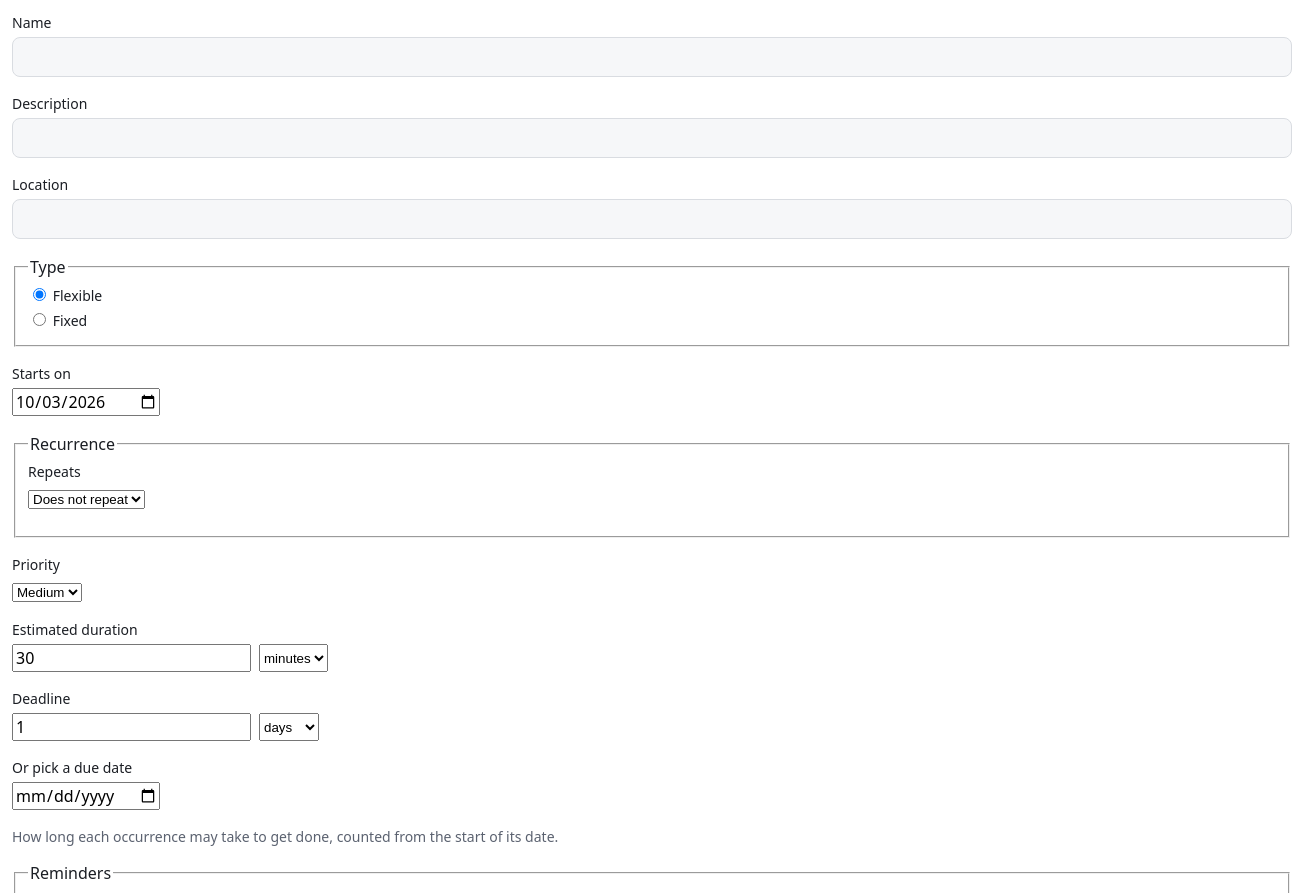
Test: TaskForm › create mode › only offers the due-date picker on a one-time task
The image size is (1304, 893).
expect the date field labelled "Or pick a due date" is shown: met, box [12,782,160,810]
Select "Daily" in the dropdown labelled "Repeats" at [86, 500], box [28,490,145,509]
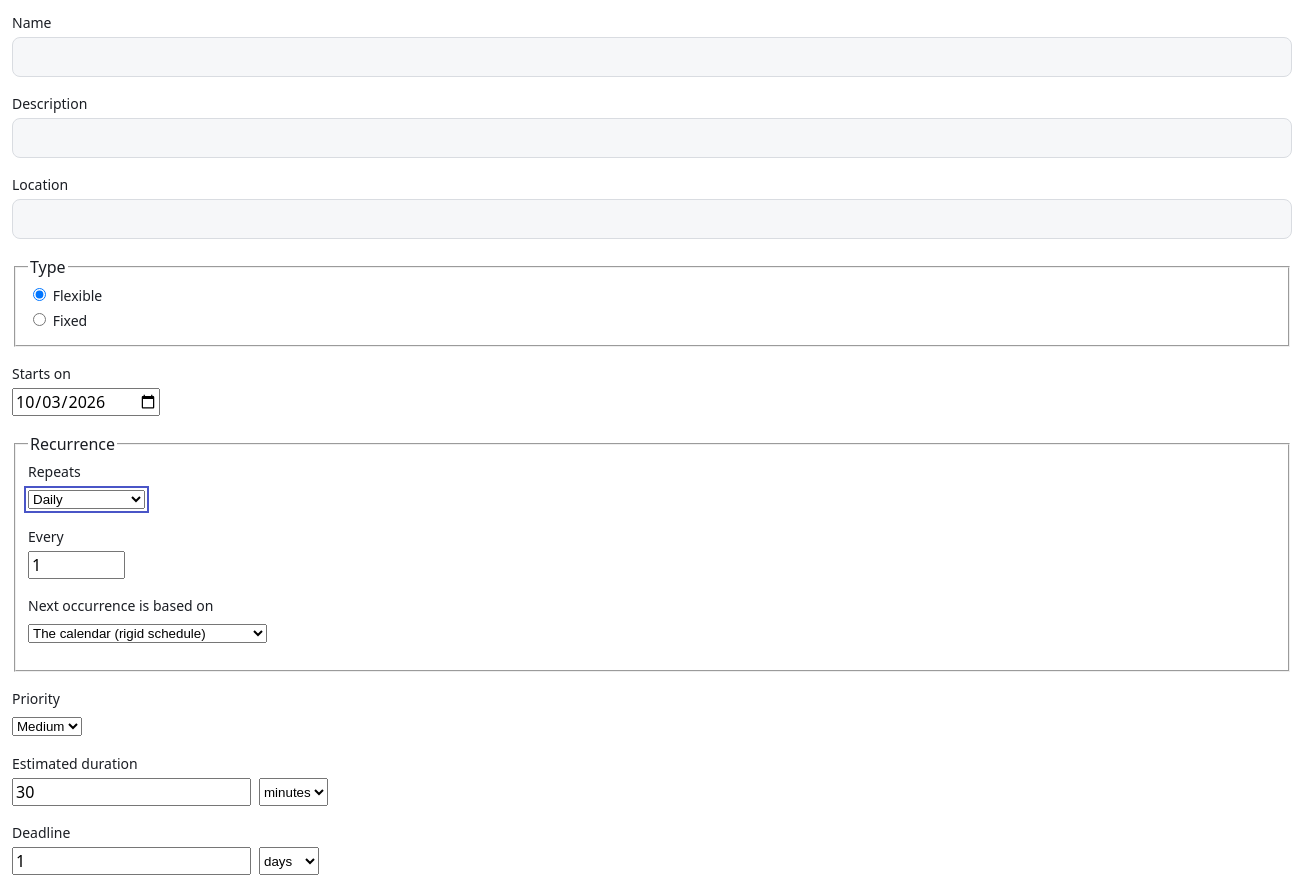
expect the label labelled "Or pick a due date" is gone: met
